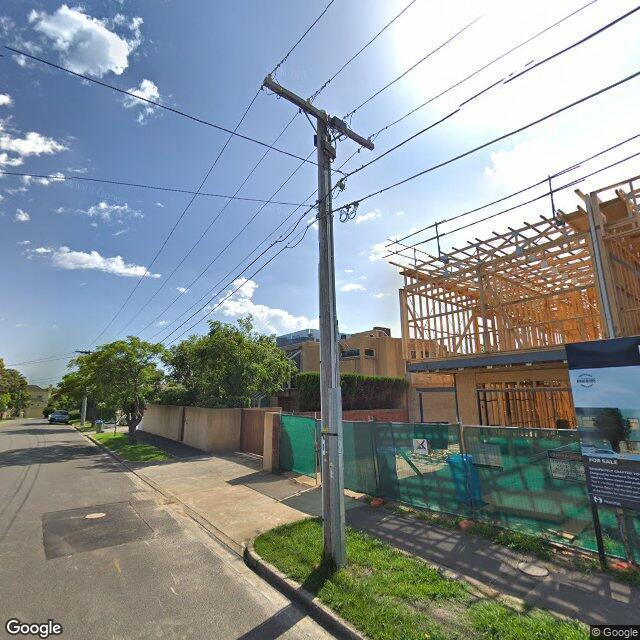crossarm: (263, 77, 374, 150), (75, 350, 92, 354)
timber-pole: (317, 109, 343, 566), (80, 395, 88, 425)
